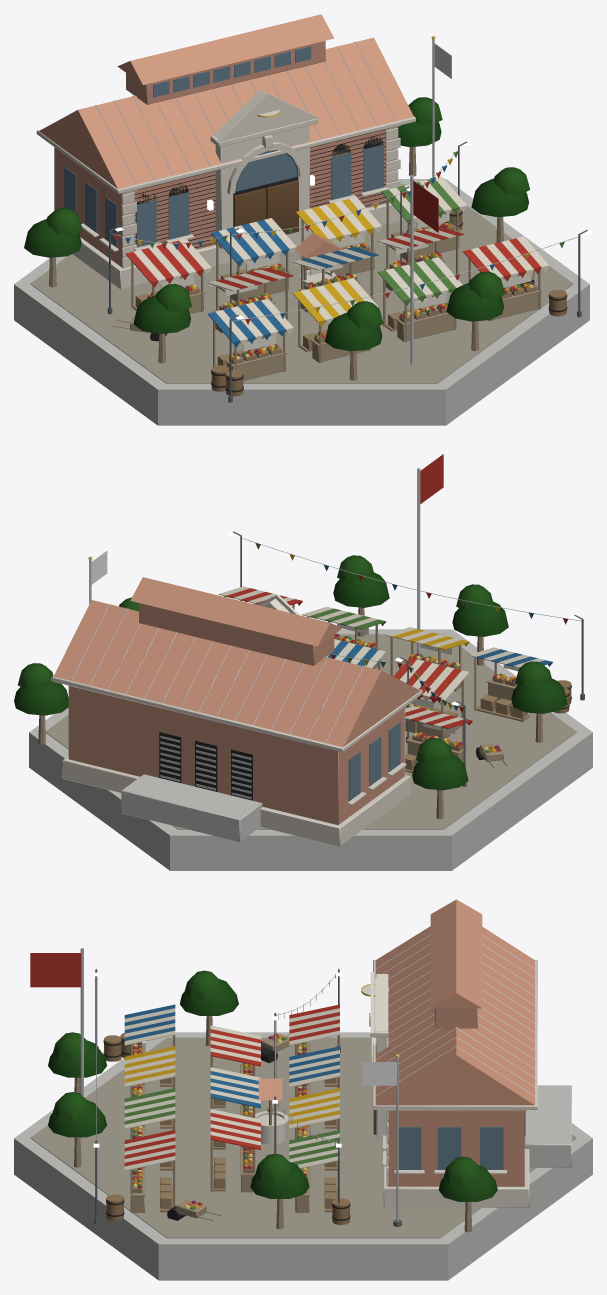
The model's file is market_us.glb.
3 renders of one model, top to bottom at view 1: azimuth 30°, elevation 25°; view 2: azimuth 150°, elevation 25°; view 3: azimuth 270°, elevation 25°, orthographic. The views are drawn at different scales.
Parts seen in each view (by area): view 1: roof_tile, wall_concrete, pavers, paint, wood, stone, leaf, brick, glass, metal, dark, steel_dark; view 2: roof_tile, wall_concrete, brick, pavers, leaf, paint, stone, wood, metal, dark, glass, steel_dark; view 3: pavers, wall_concrete, roof_tile, paint, leaf, wood, stone, brick, metal, glass, steel_dark, banner (+1 smaller).
Part boxes in pixels (x1,y1,x2,y2): roof_tile: [39, 14, 413, 258]; wall_concrete: [14, 179, 589, 425]; pavers: [30, 184, 573, 383]; paint: [113, 110, 564, 359]; wood: [49, 146, 566, 396]; stone: [36, 90, 415, 288]; leaf: [24, 97, 529, 351]; brick: [54, 40, 397, 267]; glass: [64, 46, 383, 247]; metal: [95, 39, 578, 364]; dark: [134, 129, 567, 392]; steel_dark: [107, 141, 587, 402]; roof_tile: [53, 577, 420, 747]; wall_concrete: [29, 629, 592, 870]; brick: [68, 603, 404, 824]; pavers: [45, 634, 576, 829]; leaf: [14, 555, 567, 790]; paint: [218, 454, 567, 752]; stone: [51, 594, 422, 846]; wood: [38, 596, 571, 819]; metal: [71, 468, 581, 799]; dark: [159, 685, 571, 800]; glass: [348, 722, 400, 801]; steel_dark: [233, 531, 584, 786]; pavers: [30, 1037, 576, 1238]; wall_concrete: [14, 1032, 592, 1280]; roof_tile: [258, 899, 534, 1105]; paint: [30, 953, 375, 1209]; leaf: [48, 970, 497, 1201]; wood: [74, 1016, 472, 1232]; stone: [255, 960, 537, 1207]; brick: [388, 1008, 524, 1186]; metal: [80, 934, 535, 1221]; glass: [398, 1008, 503, 1169]; steel_dark: [94, 969, 401, 1226]; banner: [362, 1062, 396, 1085].
Bounding box in the file's own units: 21.41 × 10.7 × 24.6.
